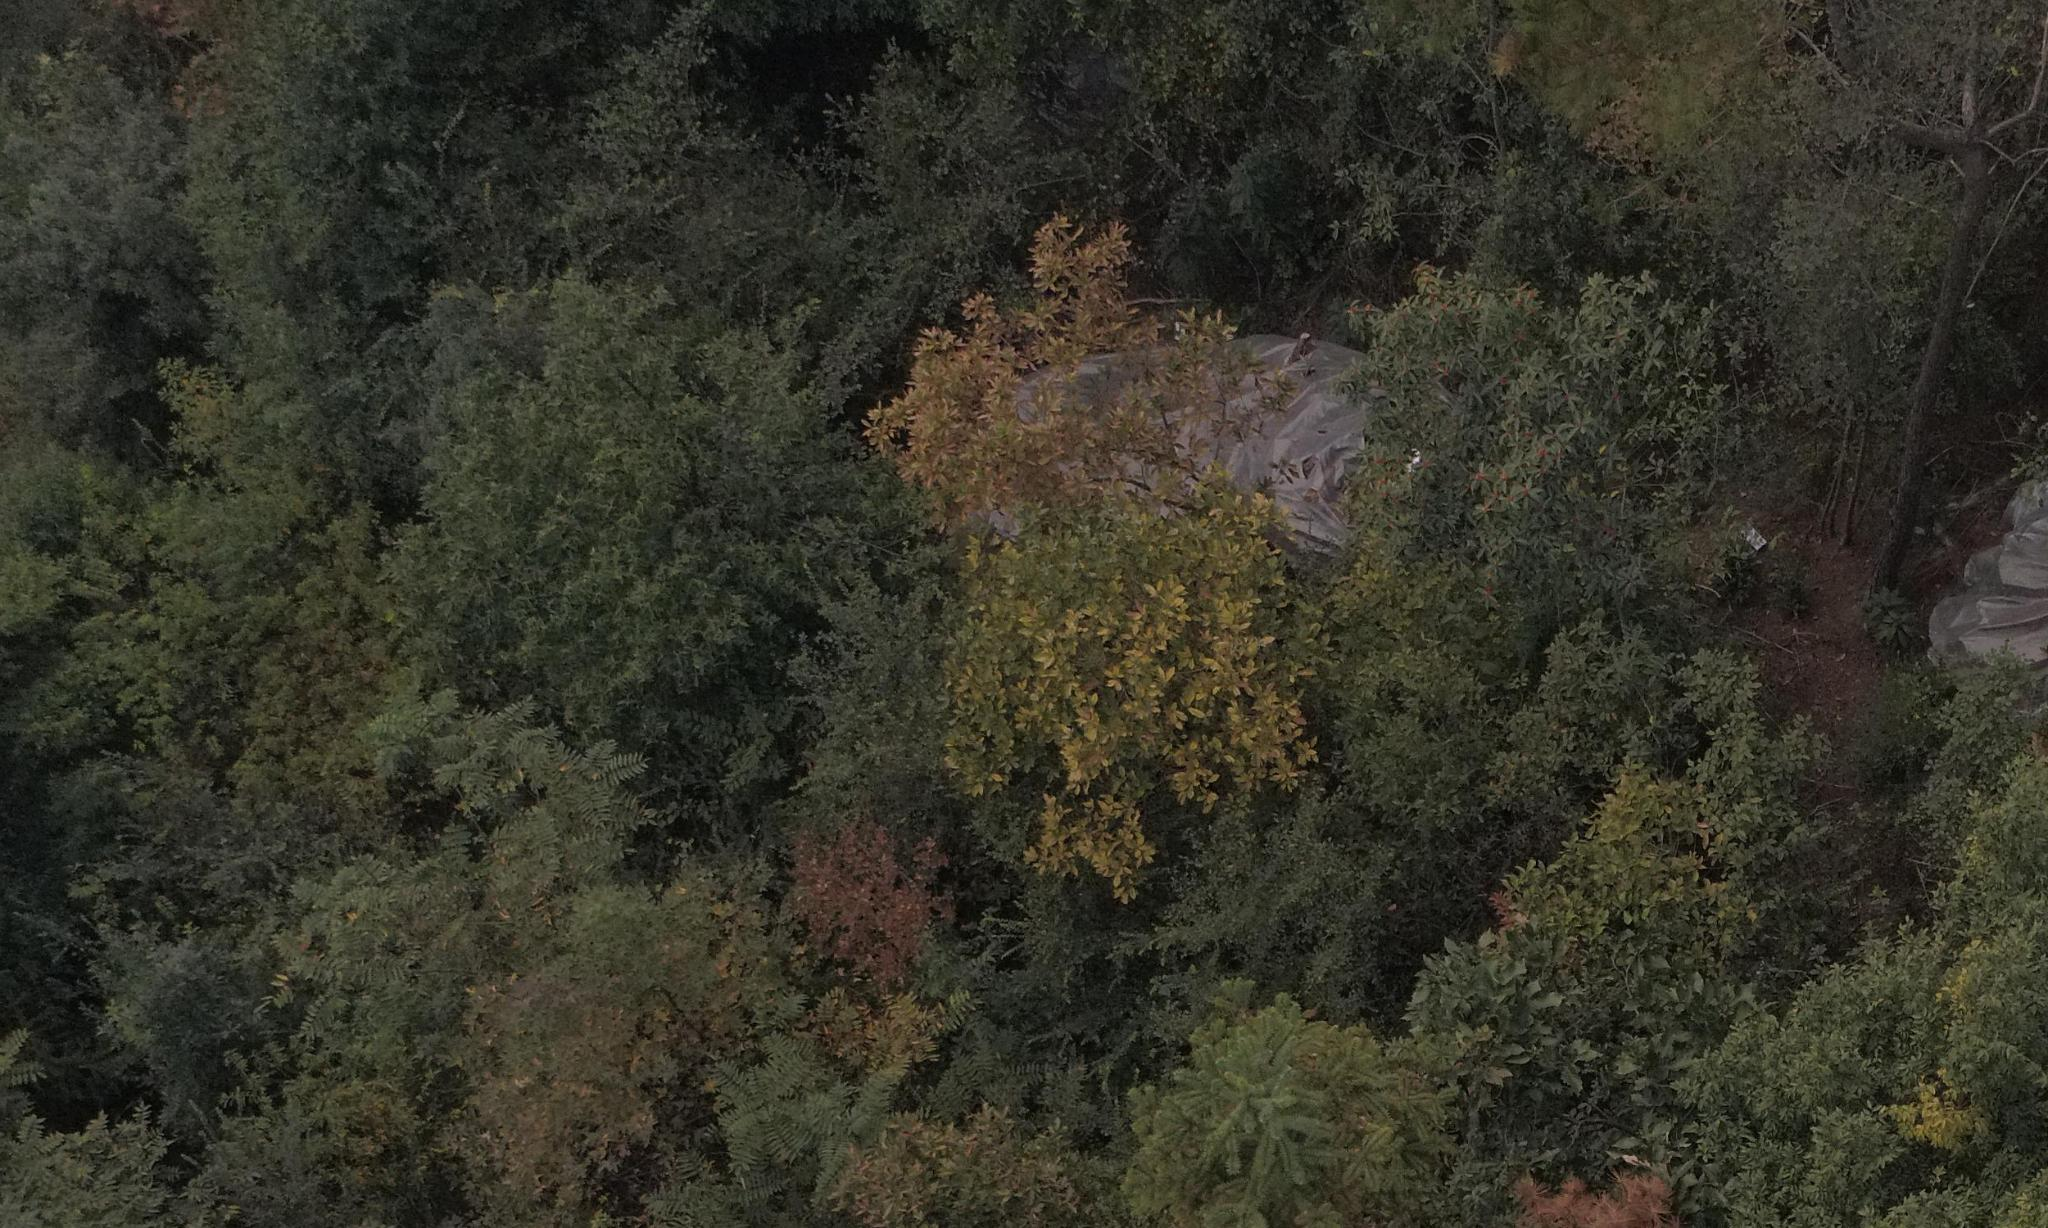light: (858, 222, 1292, 523)
